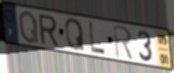3: (137, 30, 153, 64)
L: (88, 21, 107, 56)
Q: (18, 9, 40, 45), (65, 17, 86, 53)
R: (112, 23, 135, 61), (37, 13, 60, 48)
